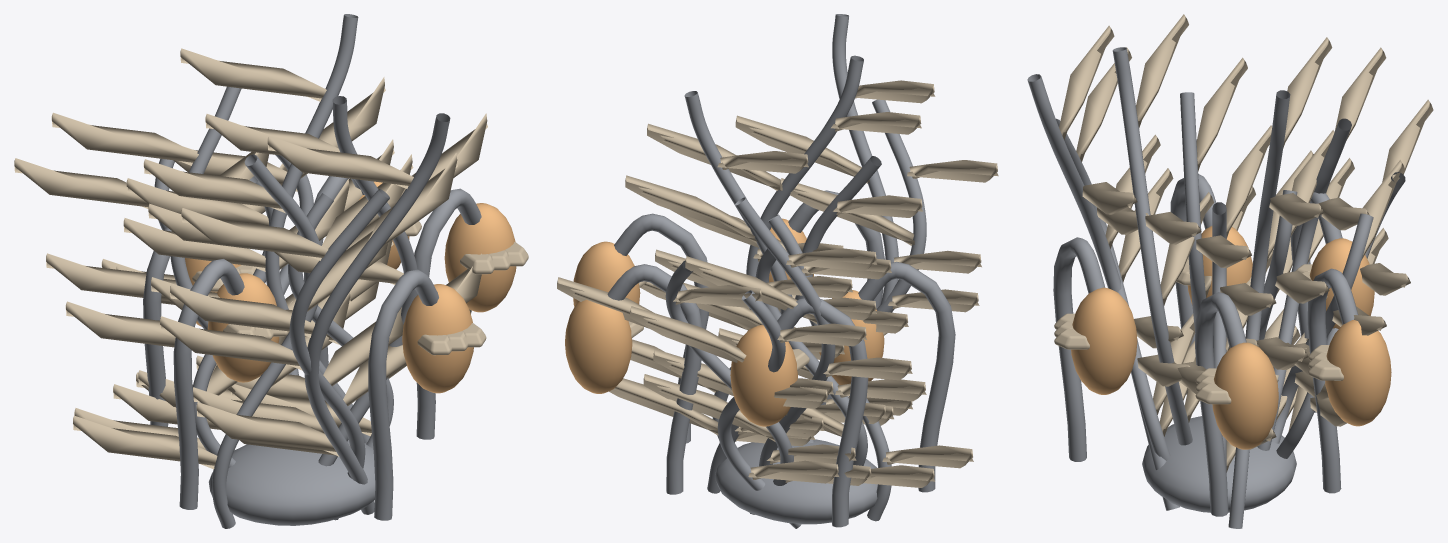
The model's file is bio_aquatic_frond_18_near.glb.
The picture shows the model from 3 angles, left to right: view 1: azimuth 30°, elevation 25°; view 2: azimuth 150°, elevation 25°; view 3: azimuth 270°, elevation 25°; orthographic projection. The views are drawn at different scales.
Visible parts, largest first — view 1: Ruffled aquatic blade.010, Holdfast, Ruffled aquatic blade.035, Ruffled aquatic blade.040, Ruffled aquatic blade.020, Ruffled aquatic blade.045, Ruffled aquatic blade.025, Ruffled aquatic blade.005, Flexible stipe.002, Arched fruit stem.002, Pendant spore capsule.002, Arched fruit stem.004 (+18 smaller); view 2: Ruffled aquatic blade.030, Ruffled aquatic blade.005, Holdfast, Ruffled aquatic blade.040, Ruffled aquatic blade.010, Ruffled aquatic blade.015, Ruffled aquatic blade.045, Pendant spore capsule.003, Ruffled aquatic blade.020, Ruffled aquatic blade.035, Ruffled aquatic blade.025, Pendant spore capsule.001 (+18 smaller); view 3: Holdfast, Flexible stipe.005, Ruffled aquatic blade.010, Pendant spore capsule.002, Pendant spore capsule, Pendant spore capsule.003, Ruffled aquatic blade.025, Ruffled aquatic blade.035, Ruffled aquatic blade.040, Flexible stipe.008, Arched fruit stem.002, Arched fruit stem (+22 smaller).
Part boxes in pixels (bbox=[...]): Ruffled aquatic blade.010: bbox=[170, 136, 457, 456]; Holdfast: bbox=[208, 440, 375, 525]; Ruffled aquatic blade.035: bbox=[160, 208, 406, 456]; Ruffled aquatic blade.040: bbox=[123, 48, 393, 402]; Ruffled aquatic blade.020: bbox=[73, 154, 413, 469]; Ruffled aquatic blade.045: bbox=[65, 178, 350, 450]; Ruffled aquatic blade.025: bbox=[193, 113, 487, 433]; Ruffled aquatic blade.005: bbox=[46, 112, 295, 407]; Flexible stipe.002: bbox=[304, 113, 450, 514]; Arched fruit stem.002: bbox=[368, 269, 438, 520]; Pendant spore capsule.002: bbox=[402, 284, 473, 393]; Arched fruit stem.004: bbox=[173, 259, 244, 509]; Ruffled aquatic blade.030: bbox=[609, 306, 866, 483]; Ruffled aquatic blade.005: bbox=[653, 248, 912, 463]; Holdfast: bbox=[715, 439, 877, 524]; Ruffled aquatic blade.040: bbox=[625, 151, 876, 437]; Ruffled aquatic blade.010: bbox=[735, 80, 981, 415]; Ruffled aquatic blade.015: bbox=[557, 277, 871, 485]; Ruffled aquatic blade.045: bbox=[653, 276, 935, 487]; Pendant spore capsule.003: bbox=[565, 299, 632, 393]; Ruffled aquatic blade.020: bbox=[671, 195, 973, 468]; Ruffled aquatic blade.035: bbox=[747, 160, 998, 425]; Ruffled aquatic blade.025: bbox=[640, 112, 921, 423]; Pendant spore capsule.001: bbox=[730, 325, 797, 426]; Holdfast: bbox=[1142, 416, 1296, 512]; Flexible stipe.005: bbox=[1112, 47, 1192, 445]; Ruffled aquatic blade.010: bbox=[1059, 25, 1195, 414]; Pendant spore capsule.002: bbox=[1071, 287, 1137, 394]; Pendant spore capsule: bbox=[1212, 342, 1278, 449]; Pendant spore capsule.003: bbox=[1325, 320, 1391, 426]; Ruffled aquatic blade.025: bbox=[1136, 14, 1213, 422]; Ruffled aquatic blade.035: bbox=[1076, 47, 1195, 436]; Ruffled aquatic blade.040: bbox=[1256, 37, 1332, 382]; Flexible stipe.008: bbox=[1228, 90, 1290, 528]; Arched fruit stem.002: bbox=[1053, 237, 1105, 461]; Arched fruit stem: bbox=[1195, 292, 1246, 516].
Bounding box in the file's own units: 1.89 × 1.89 × 1.57.
